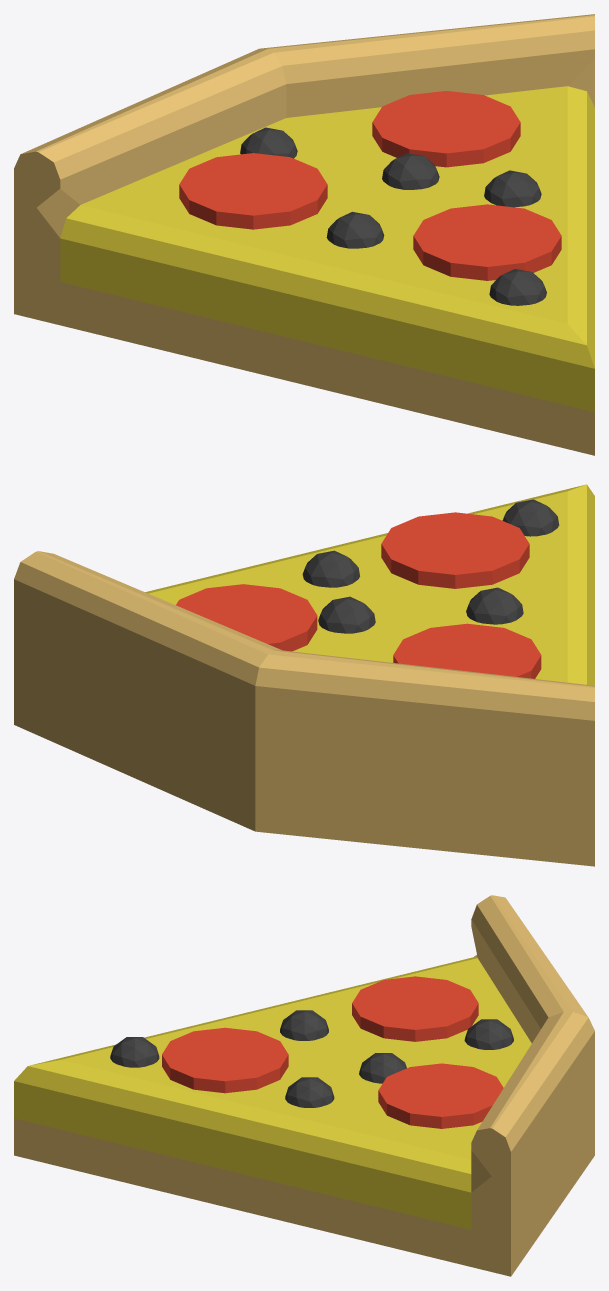
The model's file is Pizza.fbx.
3 views of the same model, one above another, from view 1: azimuth 30°, elevation 25°; view 2: azimuth 150°, elevation 25°; view 3: azimuth 270°, elevation 25° (orthographic). The views are drawn at different scales.
Parts seen in each view (by area): view 1: Pizza; view 2: Pizza; view 3: Pizza.
Part boxes in pixels (box(x1,y1,x2,y2)): Pizza: box(14, 14, 594, 455); Pizza: box(14, 484, 594, 866); Pizza: box(14, 895, 594, 1276).
Bounding box in the file's own units: 81.5 × 22.5 × 82.5.
